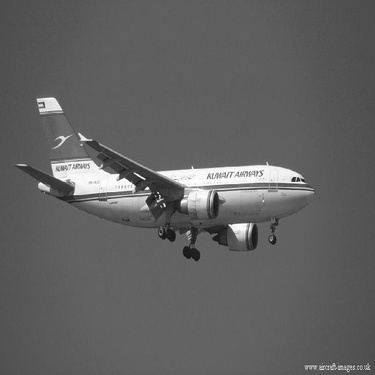airplane: (1, 65, 330, 277)
